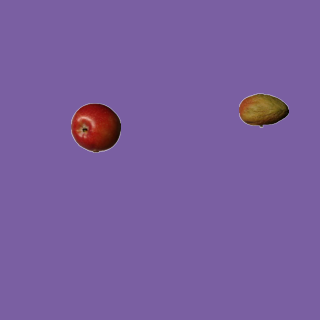Apple Braeburn: (70, 102, 120, 152)
Papaya: (238, 85, 288, 135)
